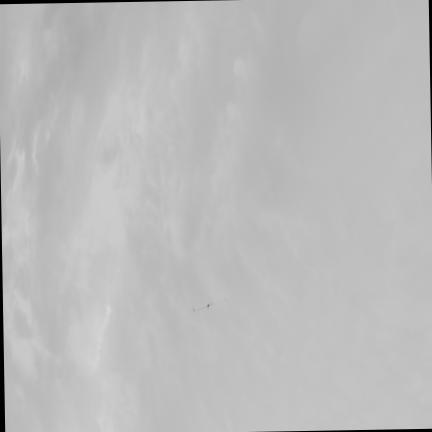Shahed: (191, 296, 226, 314)
